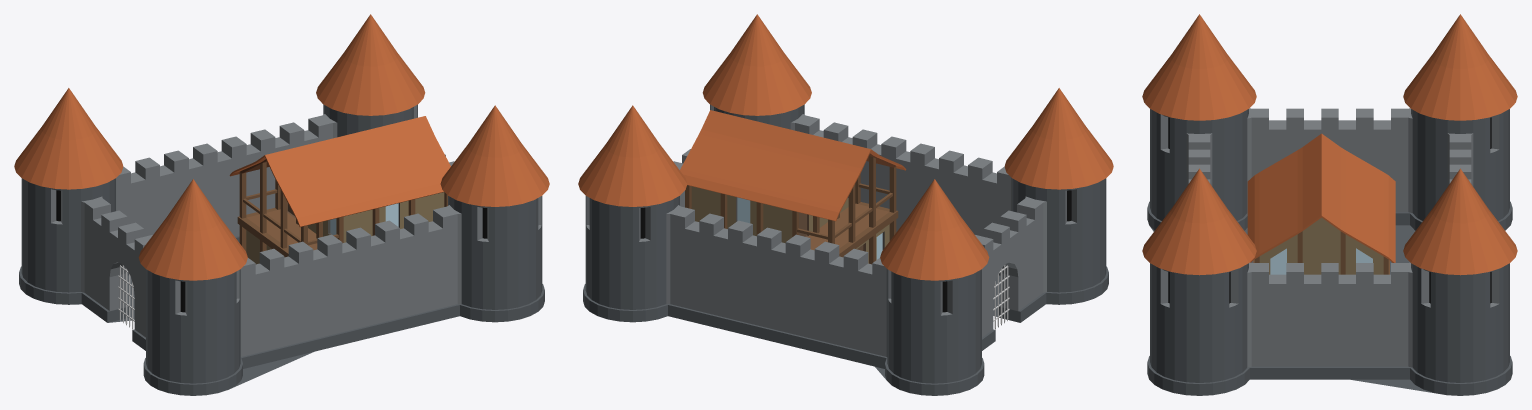
The model's file is castle.fbx.
3 renders of one model, left to right at view 1: azimuth 30°, elevation 25°; view 2: azimuth 150°, elevation 25°; view 3: azimuth 270°, elevation 25°, orthographic. The views are drawn at different scales.
Visible parts, largest first — view 1: walls, house, gates; view 2: walls, house, gates; view 3: walls, house.
Part boxes in pixels (x1,y1,x2,y2): walls: [14, 14, 549, 395]; house: [229, 116, 450, 264]; gates: [118, 265, 134, 329]; walls: [578, 14, 1113, 395]; house: [680, 110, 906, 264]; gates: [993, 265, 1009, 329]; walls: [1142, 14, 1517, 395]; house: [1247, 133, 1395, 274].
Size of the model in its own units: 18.39 by 8.69 by 14.39.
2 materials, 2 textured.
